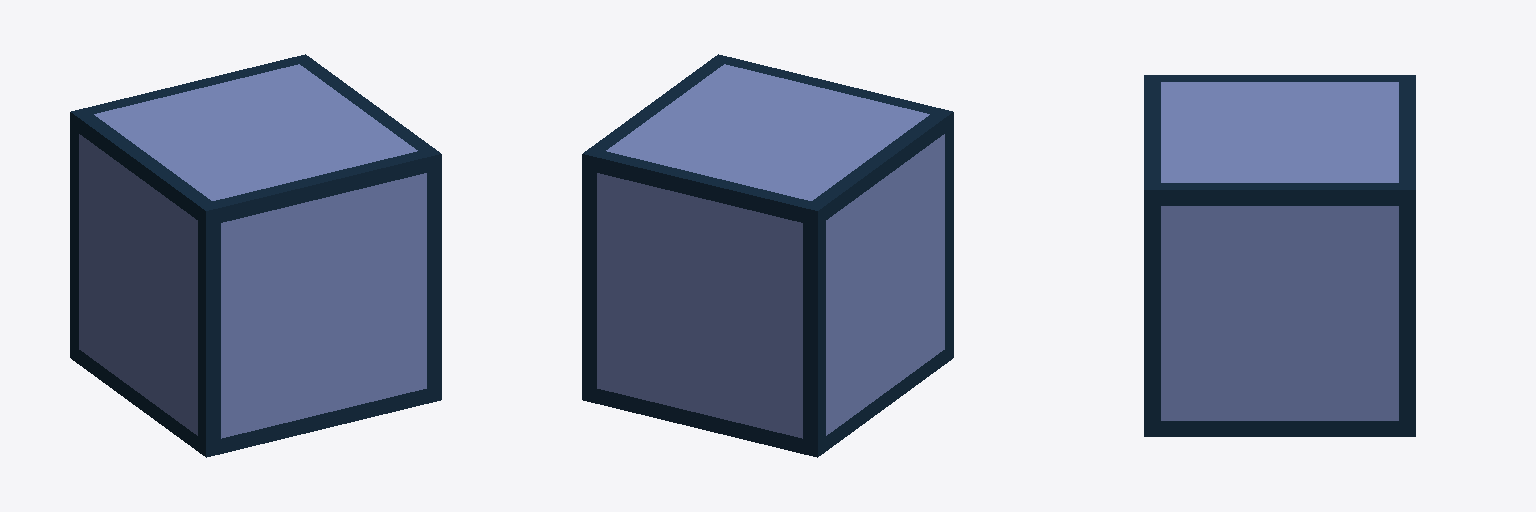
3 renders of one model, left to right at view 1: azimuth 30°, elevation 25°; view 2: azimuth 150°, elevation 25°; view 3: azimuth 270°, elevation 25°, orthographic.
Parts seen in each view (by area): view 1: Model; view 2: Model; view 3: Model.
Boxes of the visible parts, x1,y1,x2,y2 form: Model: [70, 54, 441, 457]; Model: [582, 54, 953, 457]; Model: [1144, 75, 1415, 436].
Bounding box in the file's own units: 32 × 32 × 32.
Materials: 1 (1 with a texture image).